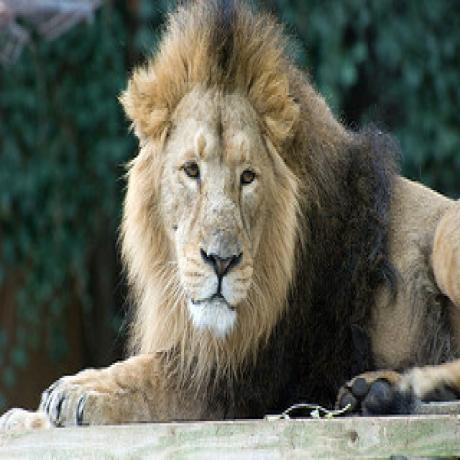Lion: (46, 0, 458, 423)
